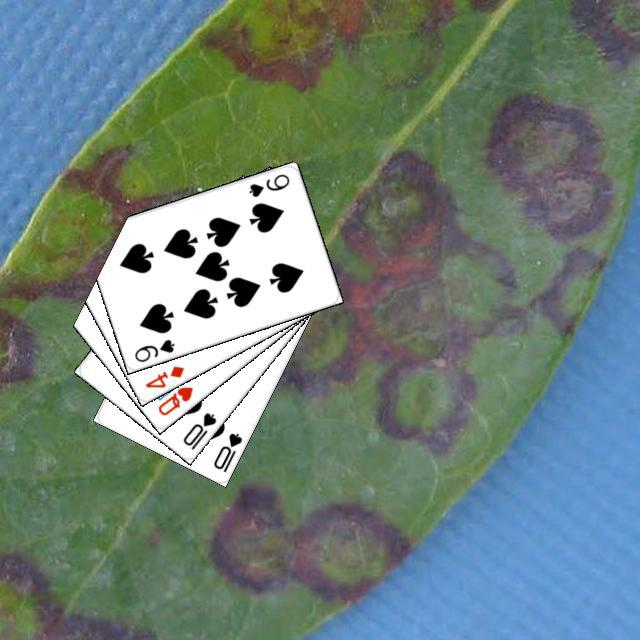10s: (178, 407, 218, 452), (208, 428, 244, 474)
4d: (140, 361, 186, 390)
9s: (244, 169, 291, 199), (130, 334, 176, 364)
Qh: (153, 381, 195, 417)
